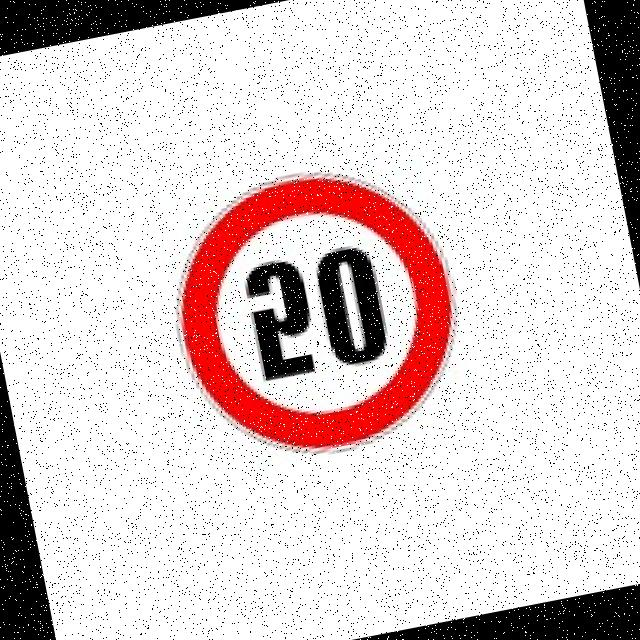speed_limit_50: (144, 145, 503, 490)
